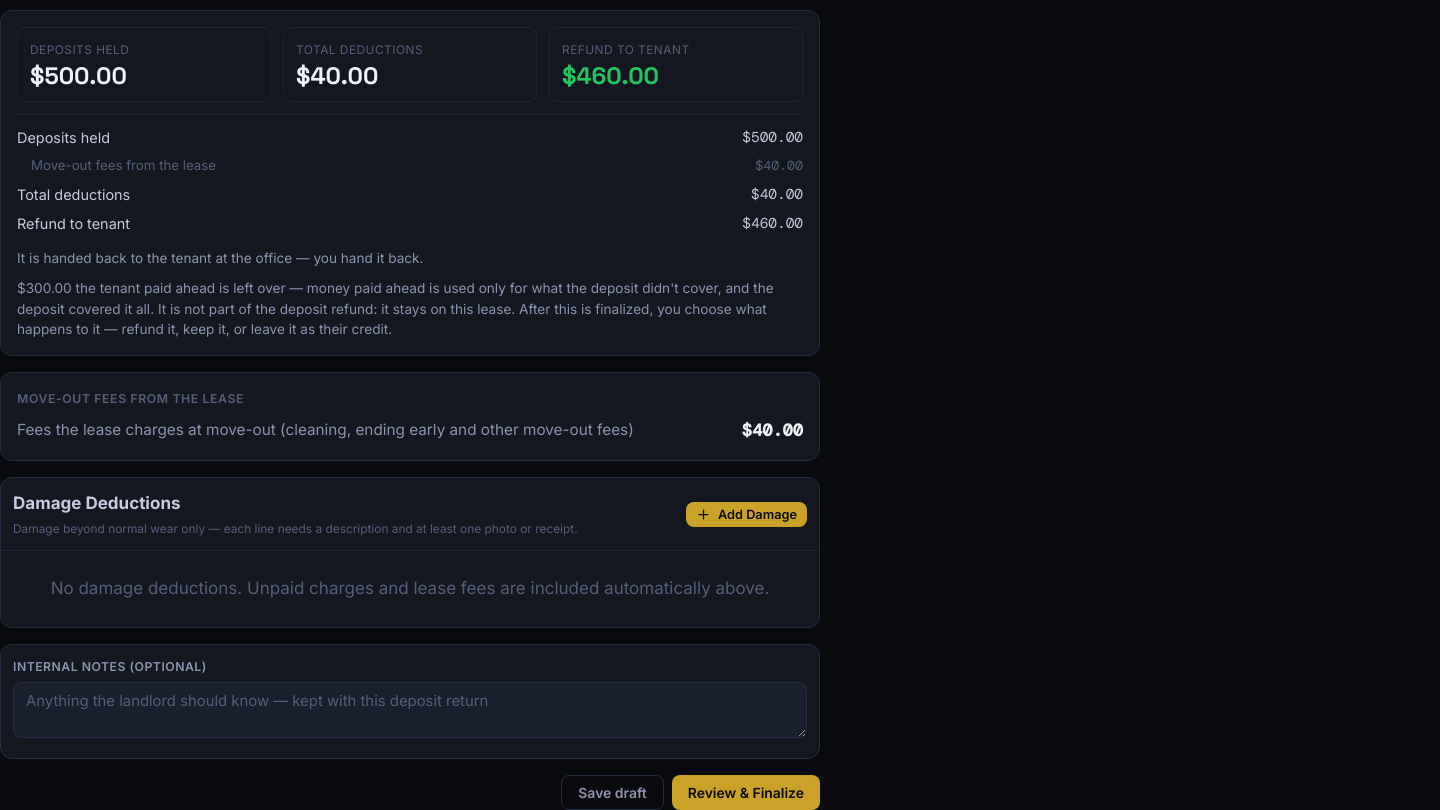
it: Deposit return: the server's figures, never the page's own sum › a deposit paid at the office: the confirm says it is handed back at the office, by you — never who holds it
(page scrolled)
Click the button "Review & Finalize": point(746, 793) top-left (672, 775), bottom-right (820, 809)
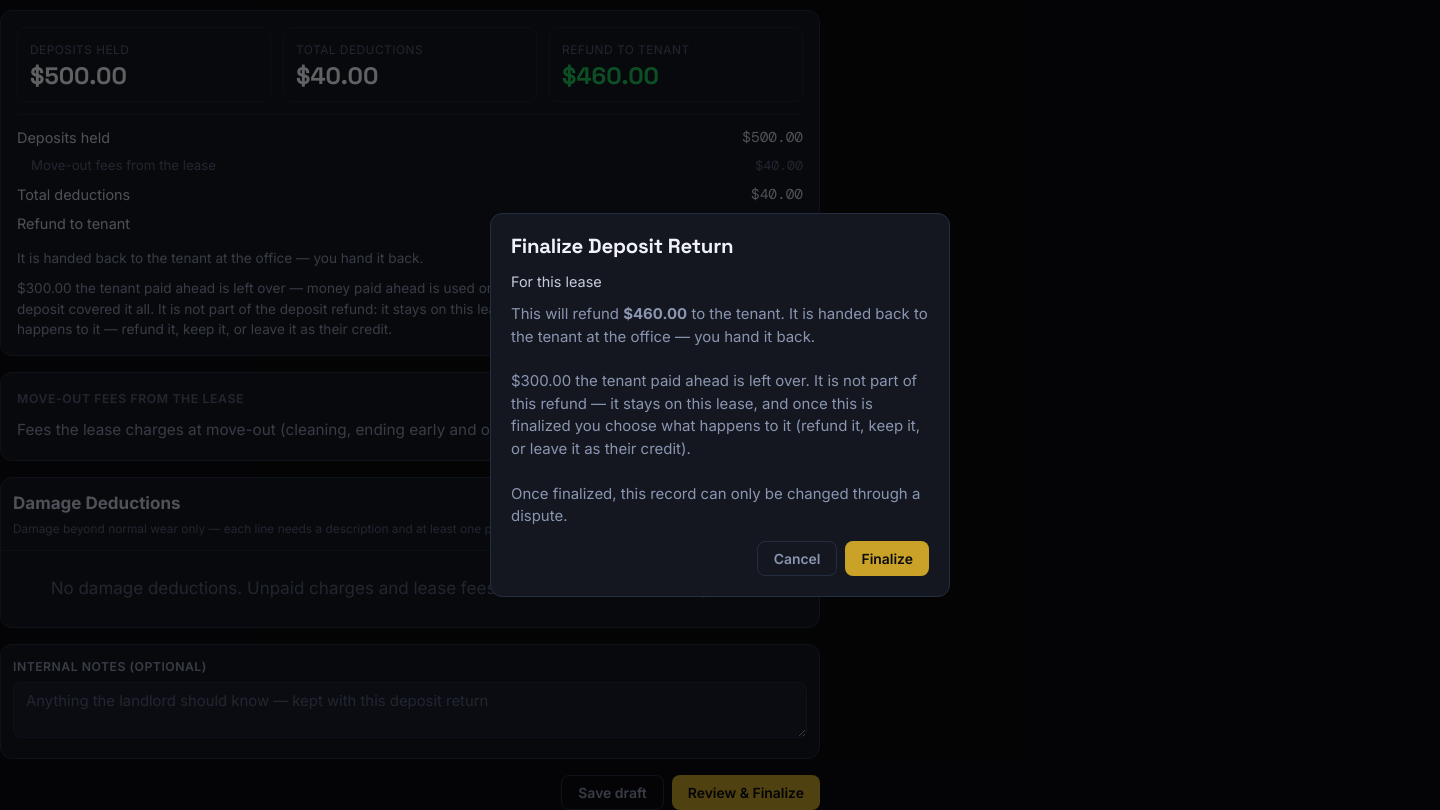
Check: the dialog shows "It is handed back to the tenant at the office — you hand it back.", box top-left (511, 305), bottom-right (928, 346)
